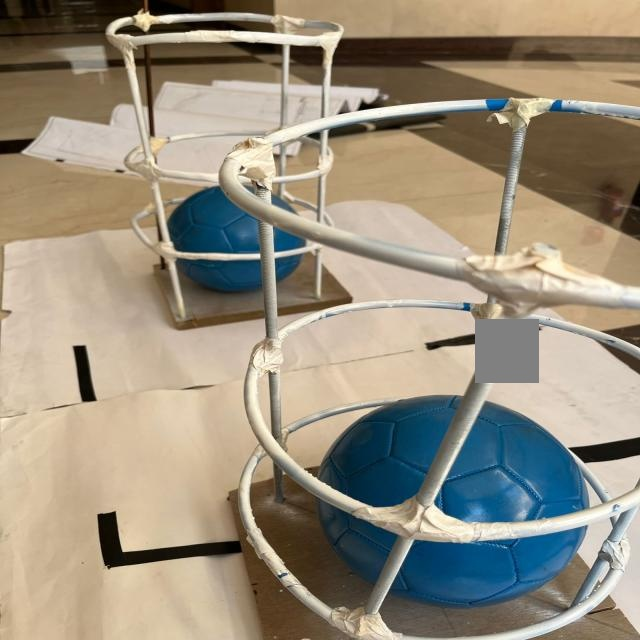blue_ball: (320, 393, 591, 601), (170, 185, 306, 286)
silo: (215, 100, 640, 640), (113, 12, 350, 314)
